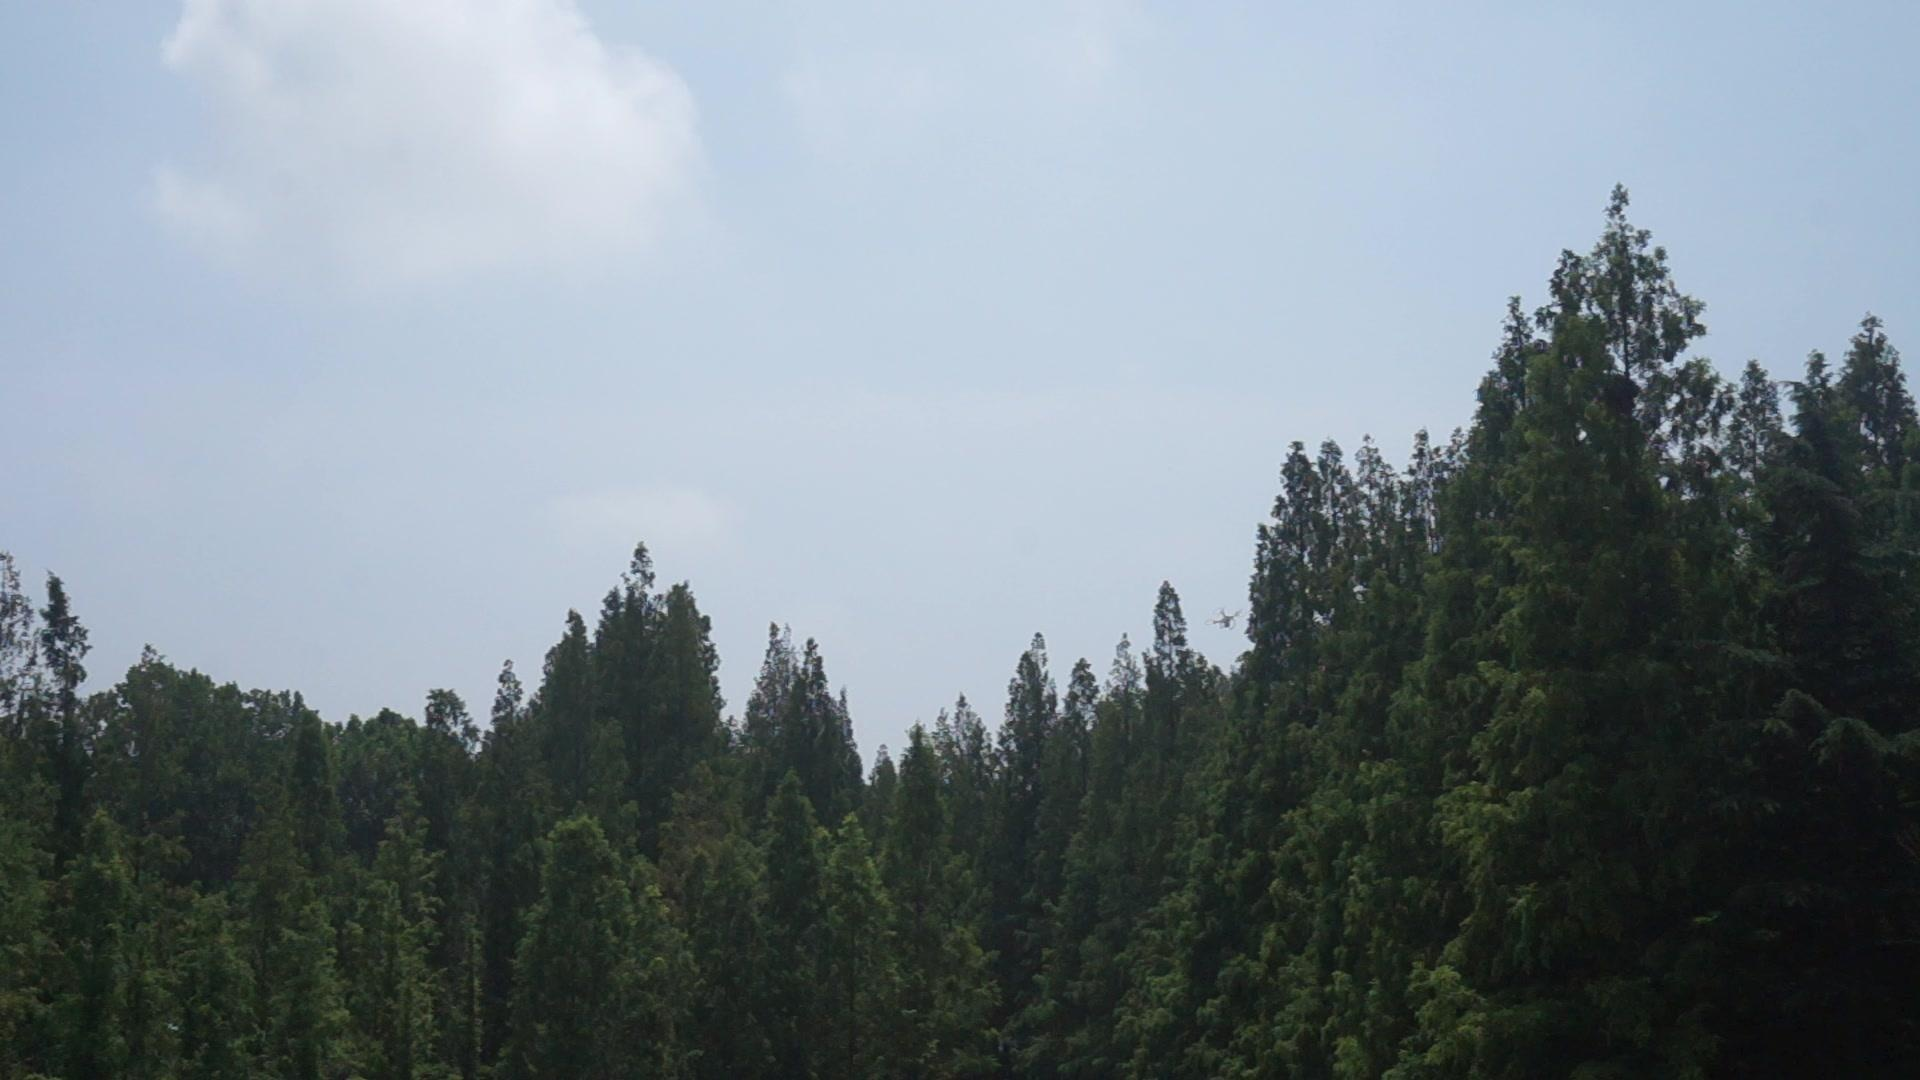UAV: (1205, 609, 1247, 632)
